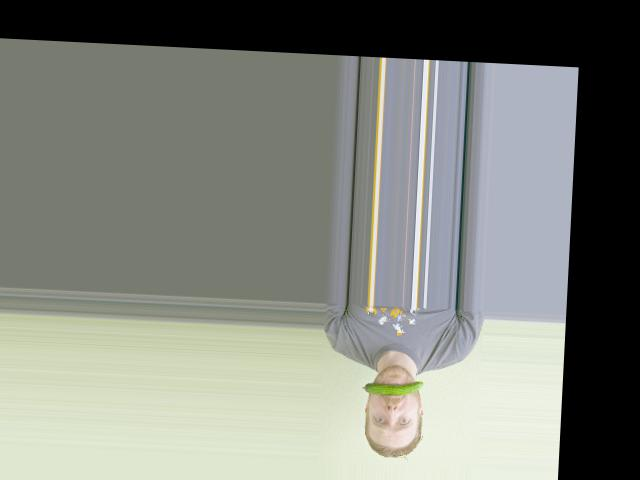cucumber: (362, 378, 424, 396)
